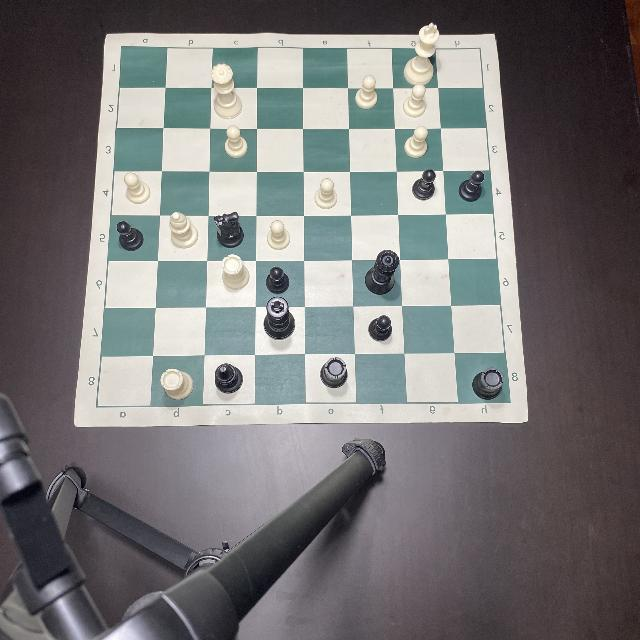black-bishop: (214, 362, 242, 393)
black-king: (262, 298, 296, 340)
black-knight: (213, 212, 244, 248)
black-pawn: (117, 222, 145, 250), (458, 172, 484, 202), (412, 170, 436, 202), (368, 315, 394, 343), (266, 266, 290, 294)
black-queen: (364, 250, 400, 296)
black-rook: (472, 368, 506, 399), (321, 358, 349, 388)
board: (73, 35, 523, 428)
white-bishop: (170, 212, 198, 248)
white-king: (404, 22, 441, 86)
white-pawn: (354, 77, 382, 109), (402, 84, 428, 118), (314, 178, 340, 210), (124, 173, 150, 204), (404, 126, 428, 158), (225, 126, 248, 158), (268, 220, 290, 250)
white-queen: (214, 64, 242, 118)
white-rook: (161, 368, 193, 400), (221, 254, 249, 290)
